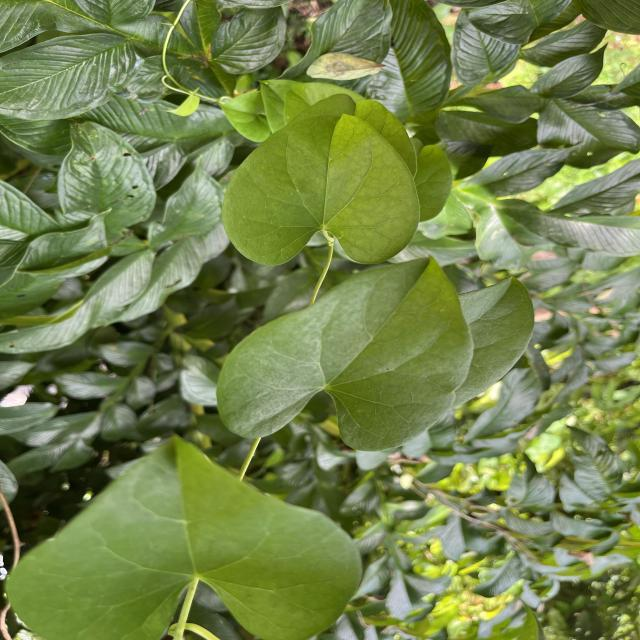Tinospora cordifolia: (2, 431, 366, 640), (210, 252, 477, 456), (215, 110, 424, 270)
